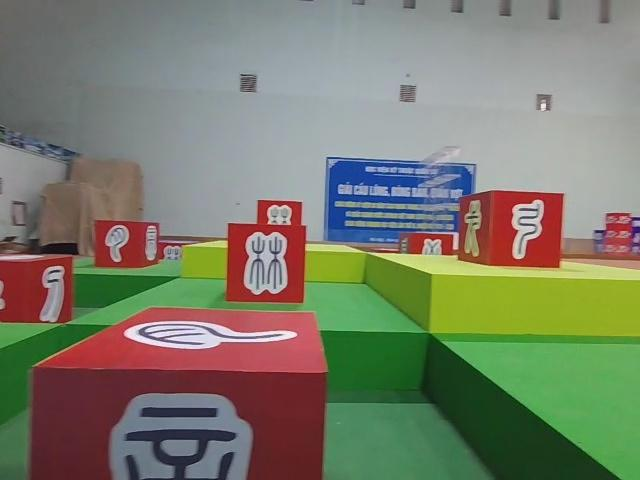R2 Fake: (25, 304, 330, 480), (455, 185, 567, 270), (223, 219, 309, 308), (0, 249, 77, 328), (90, 214, 163, 271)
